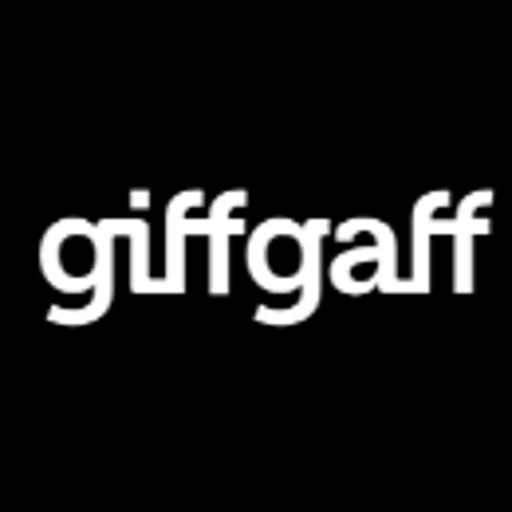Giffgaff: (0, 156, 512, 356)
